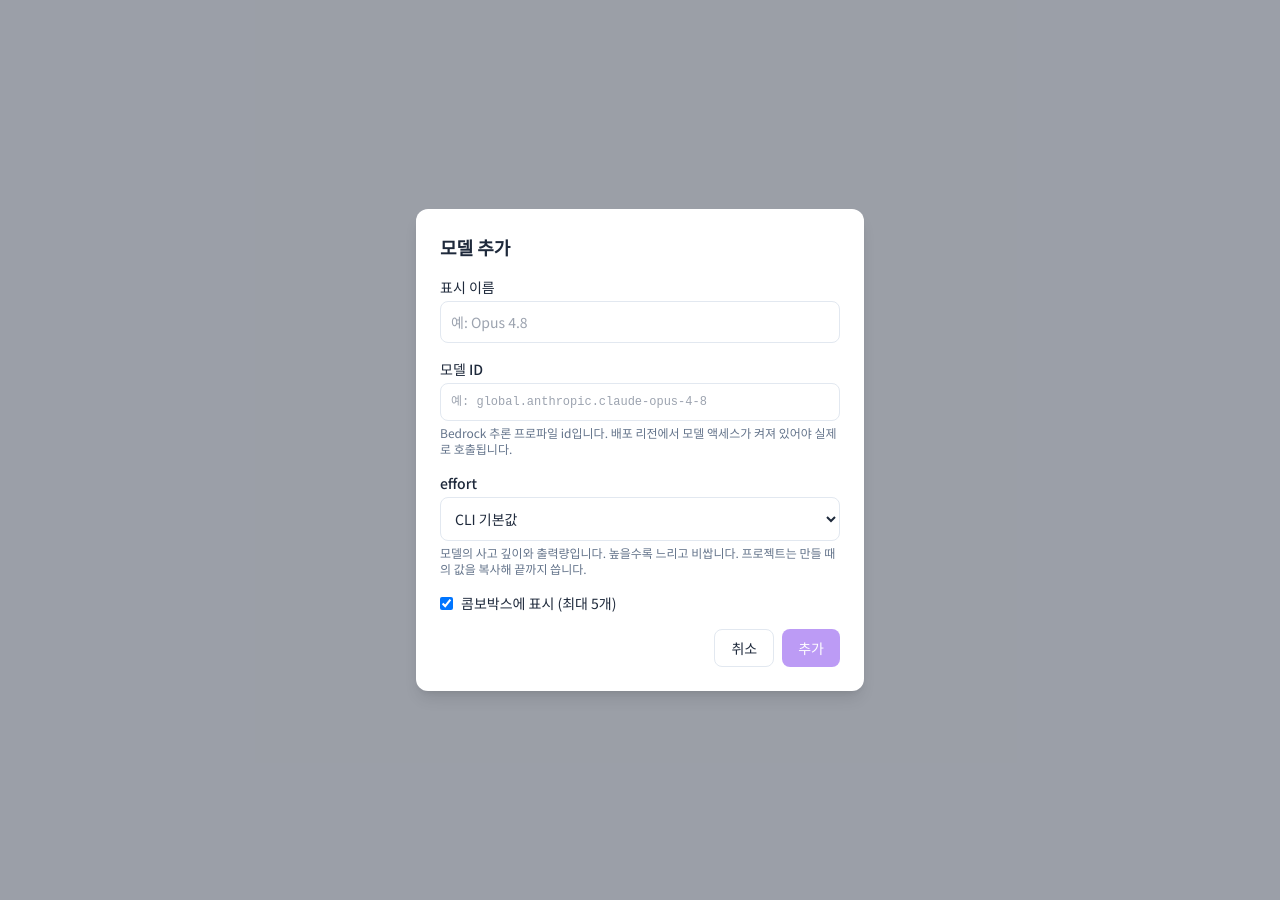
Test case: AddModelModal › keeps the modal open and shows the detail on 409
In the field labelled "표시 이름": {"x": 640, "y": 322} [440,301,840,343], type "중복"
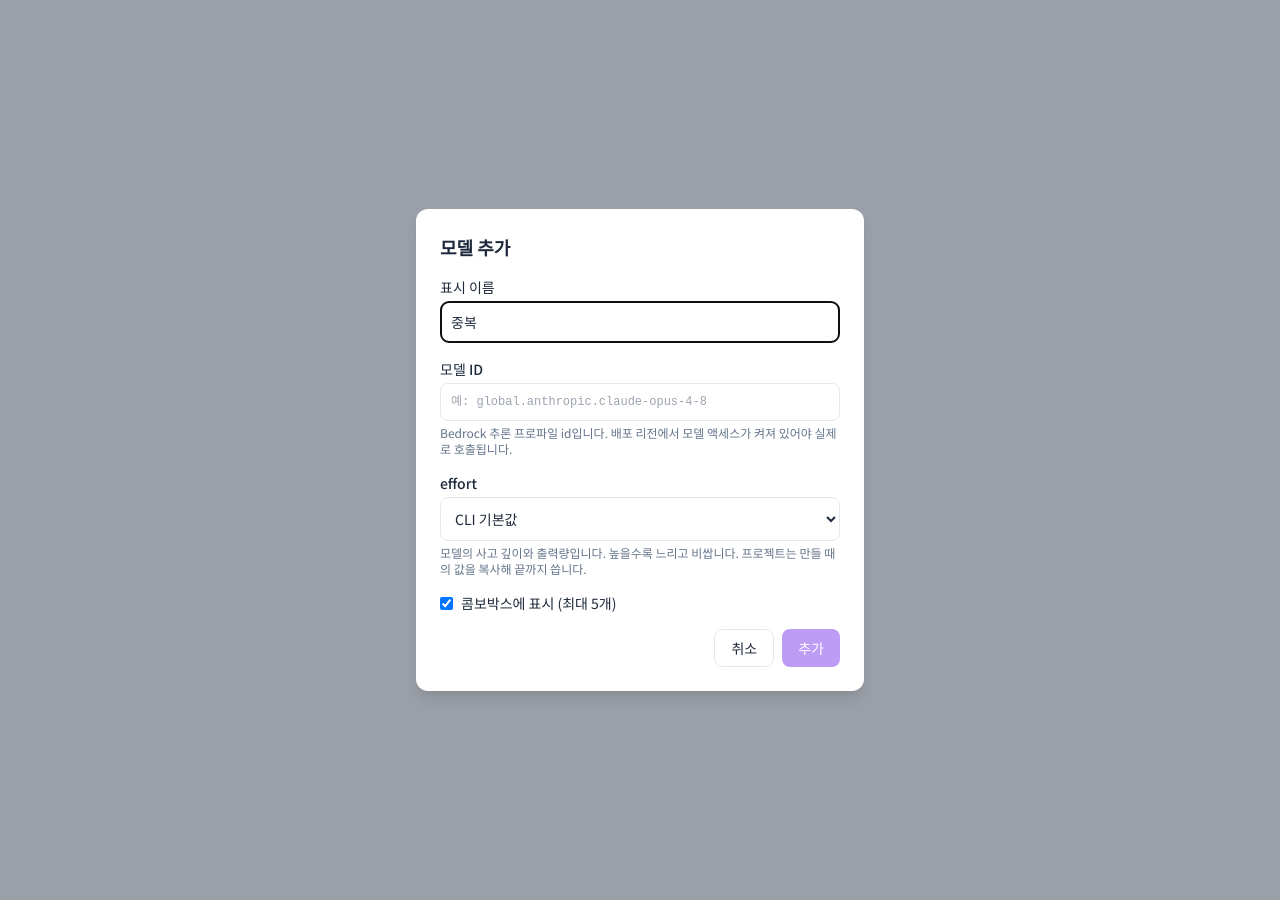
In the field labelled "모델 ID": {"x": 640, "y": 402} [440,383,840,421], type "global.anthropic.claude-opus-5"
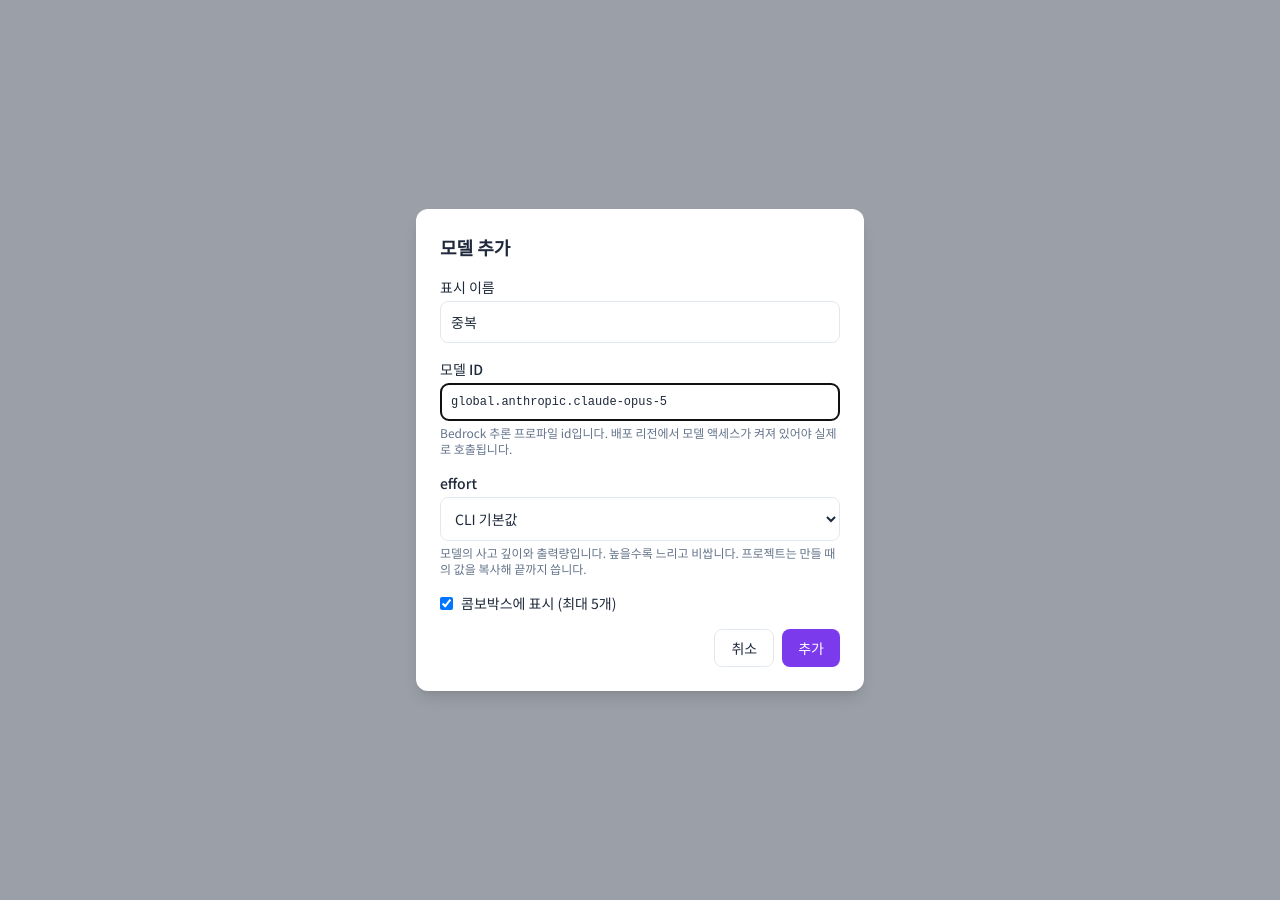
Click the button "추가": {"x": 811, "y": 648} [782,629,840,667]
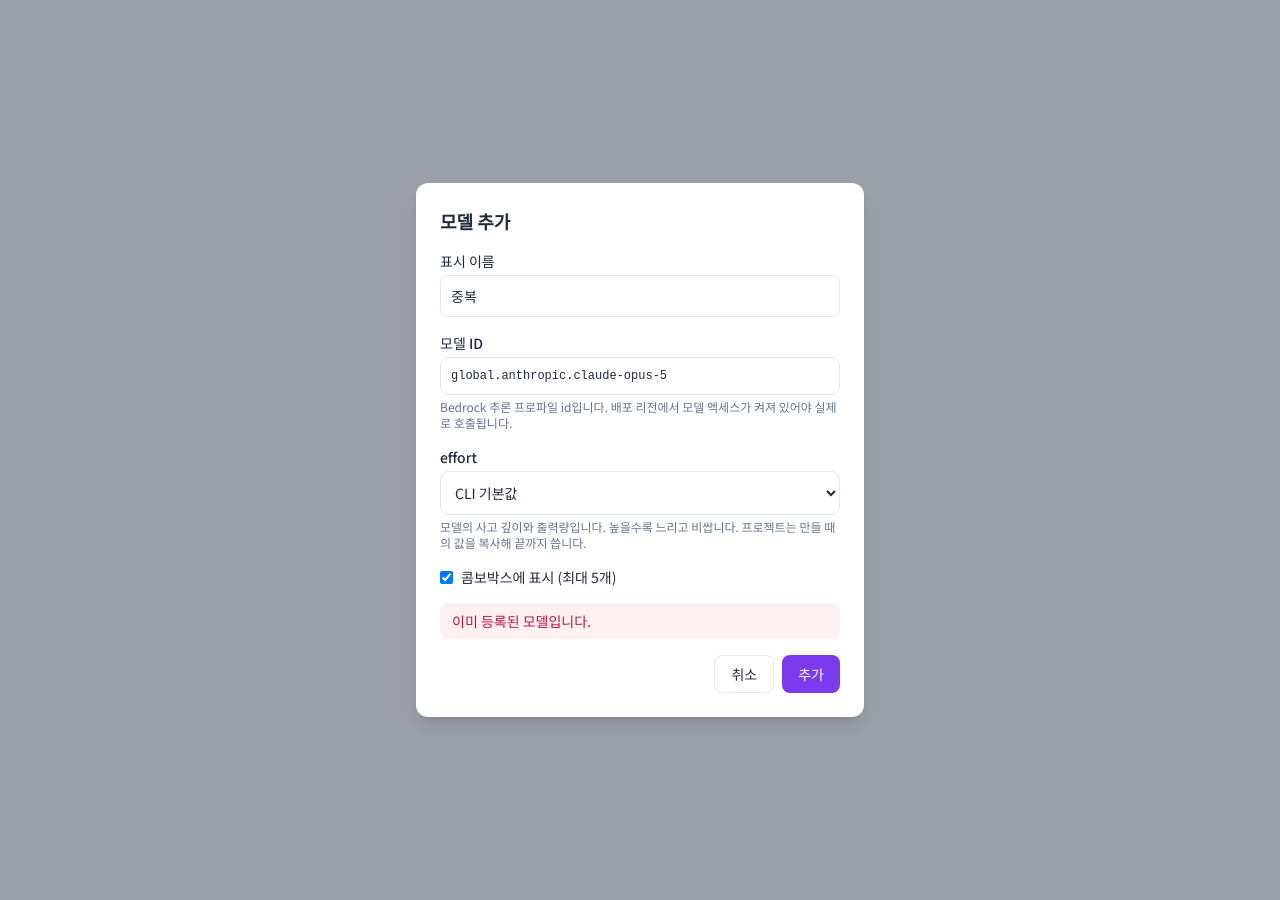
Expected: the message reads "이미 등록된 모델입니다.", [452,611,591,631]
